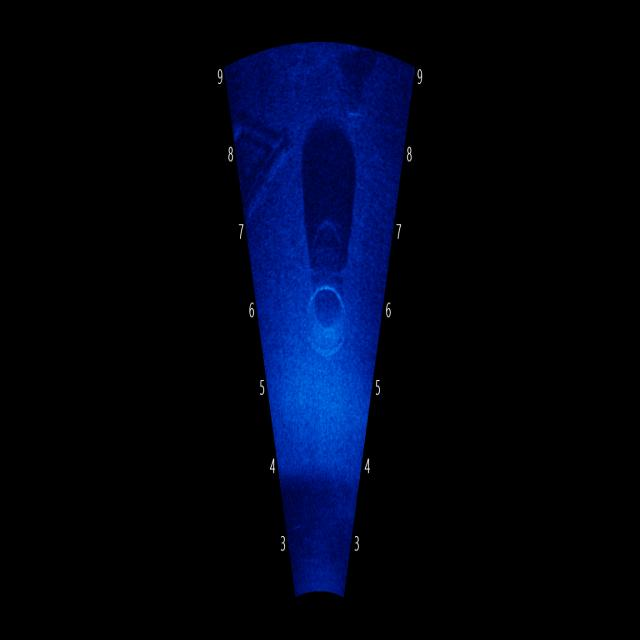circle: (291, 242, 356, 389)
